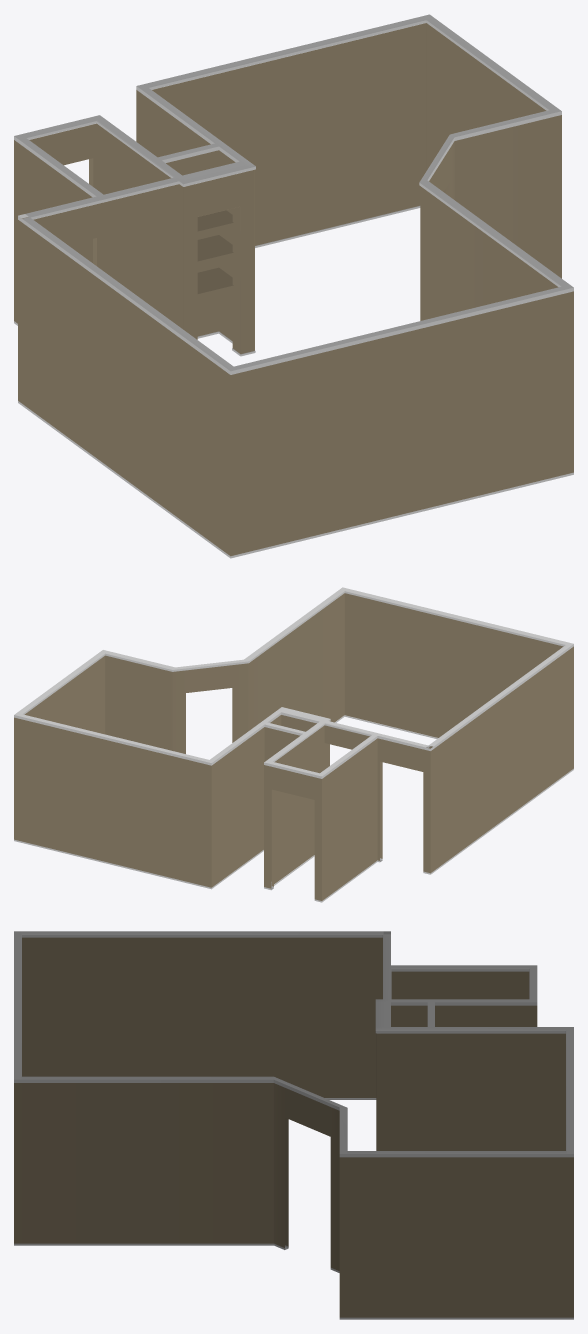
File: FP208:StandardWallSize_e70190d9.obj
The picture shows the model from 3 angles, top to bottom: view 1: azimuth 30°, elevation 25°; view 2: azimuth 150°, elevation 25°; view 3: azimuth 270°, elevation 25°; orthographic projection. The views are drawn at different scales.
Parts seen in each view (by area): view 1: FP208:StandardWallSize_e70190d9; view 2: FP208:StandardWallSize_e70190d9; view 3: FP208:StandardWallSize_e70190d9.
Boxes of the visible parts, x1=… form: FP208:StandardWallSize_e70190d9: x1=14, y1=14, x2=573, y2=558; FP208:StandardWallSize_e70190d9: x1=14, y1=587, x2=573, y2=902; FP208:StandardWallSize_e70190d9: x1=14, y1=931, x2=573, y2=1319.
Size of the model in its own units: 7.2 by 2.5 by 7.65.
